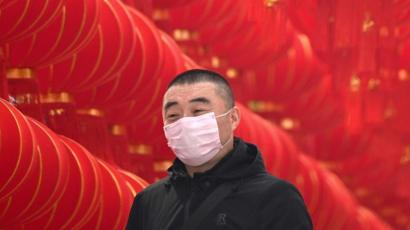with_mask: (160, 83, 240, 162)
